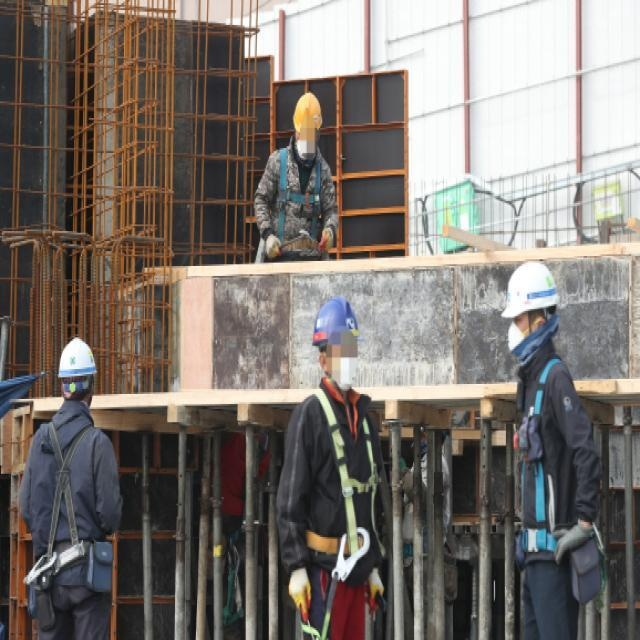Arnes_seguridad: (302, 379, 386, 640), (15, 418, 100, 591), (513, 355, 576, 555), (273, 146, 328, 251)
